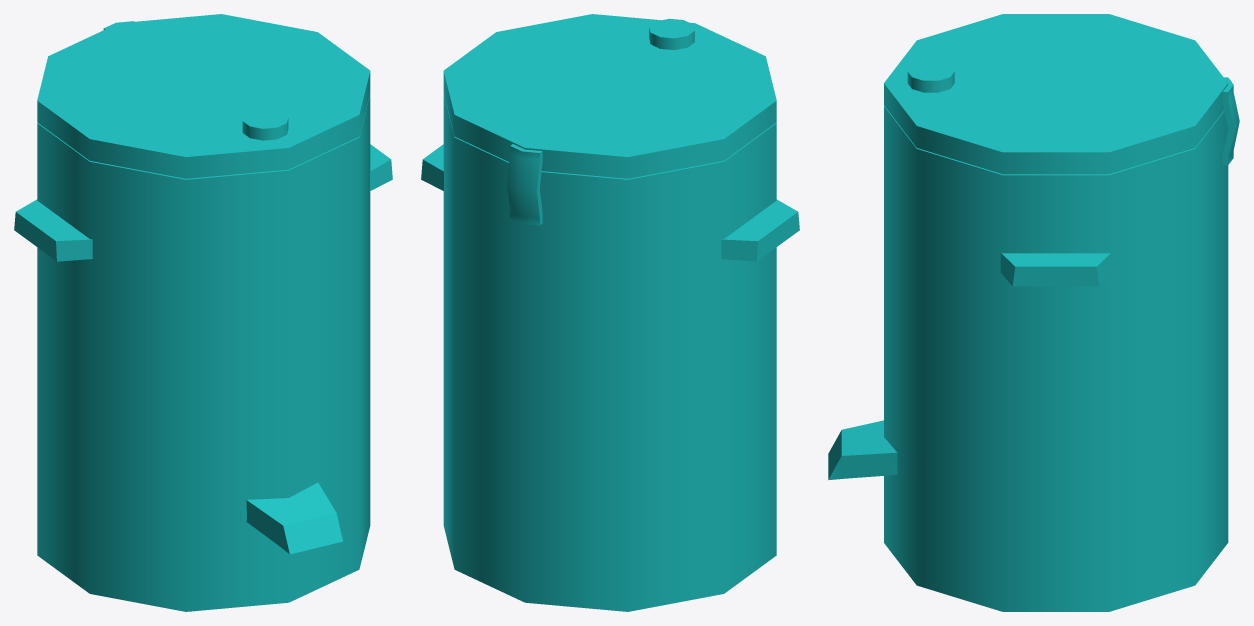
Rendered from Secarropa.fbx.
3 views of the same model, side by side, from view 1: azimuth 30°, elevation 25°; view 2: azimuth 150°, elevation 25°; view 3: azimuth 270°, elevation 25° (orthographic).
Visible parts, largest first — view 1: Secarropa; view 2: Secarropa; view 3: Secarropa.
Part boxes in pixels (x1,y1,x2,y2): Secarropa: (14, 14, 392, 611); Secarropa: (421, 14, 799, 611); Secarropa: (828, 14, 1239, 611).
Bounding box in the file's own units: 0.7036 × 0.9339 × 0.7388.
